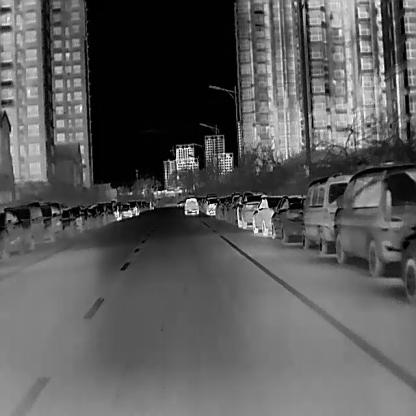car: (333, 161, 415, 276), (299, 172, 354, 254), (4, 200, 43, 249), (269, 193, 305, 243), (0, 209, 25, 261), (232, 190, 266, 228), (252, 194, 282, 236), (38, 200, 62, 243), (61, 202, 82, 236), (224, 193, 240, 224), (183, 194, 198, 215), (203, 195, 217, 215), (127, 199, 138, 215), (119, 202, 131, 216), (176, 198, 184, 206)
